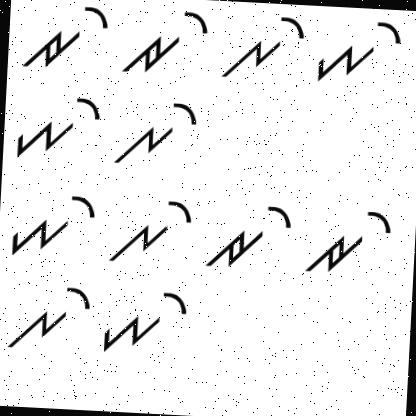lay: (108, 89, 201, 180), (106, 183, 196, 277), (216, 8, 308, 86), (7, 278, 92, 356)
ray: (202, 195, 294, 282), (115, 0, 212, 82), (302, 201, 396, 285), (22, 0, 112, 74)
yay: (97, 286, 194, 370), (9, 85, 102, 166), (311, 14, 403, 95), (3, 184, 98, 261)
